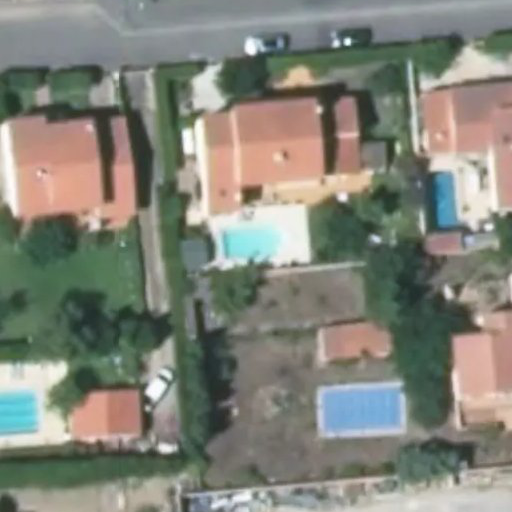pool: (221, 227, 291, 255)
